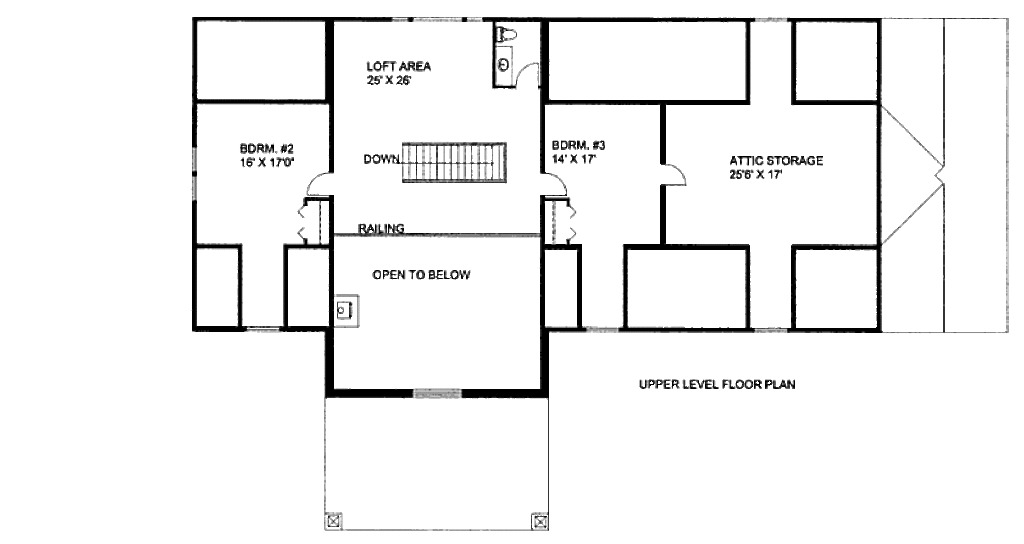door: (514, 57, 541, 92), (305, 166, 333, 197), (659, 165, 695, 187), (541, 172, 570, 195)
large_sink: (490, 23, 525, 45)
small_sink: (495, 53, 515, 81)
stairs: (401, 135, 520, 191)
window: (412, 385, 461, 402), (190, 150, 201, 202), (391, 18, 482, 23), (245, 328, 289, 332), (756, 328, 786, 332)
